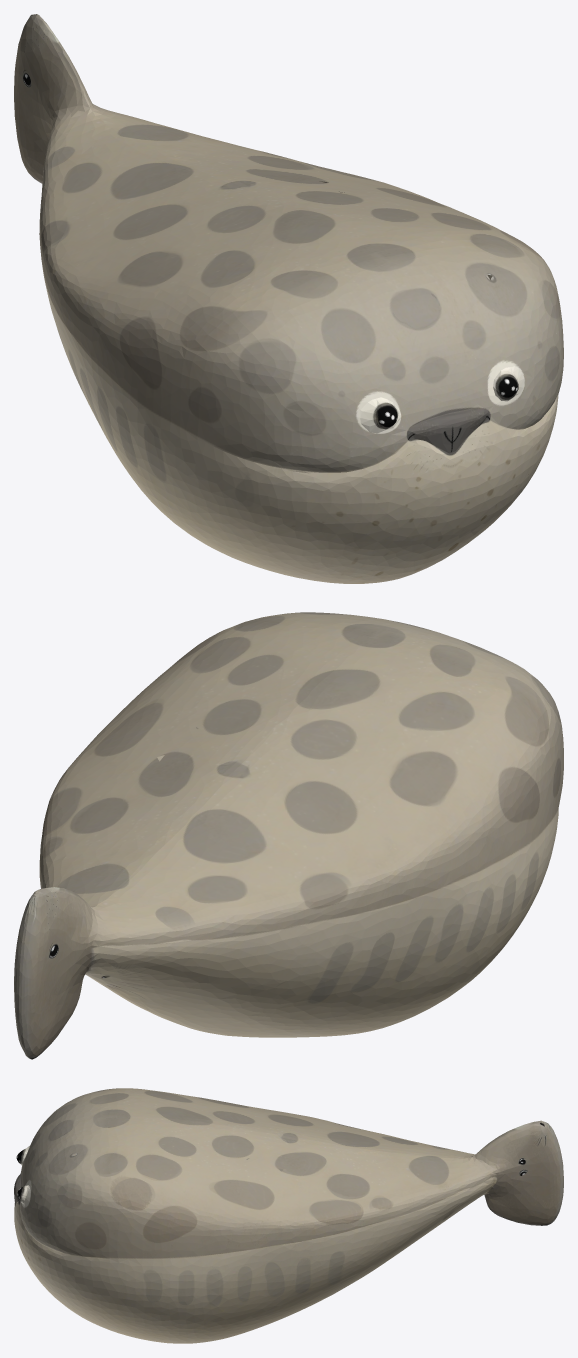
The model's file is Whimsical_Whale_0515031853_texture.fbx.
3 views of the same model, one above another, from view 1: azimuth 30°, elevation 25°; view 2: azimuth 150°, elevation 25°; view 3: azimuth 270°, elevation 25° (orthographic). The views are drawn at different scales.
Parts seen in each view (by area): view 1: temp; view 2: temp; view 3: temp.
Boxes of the visible parts, x1,y1,x2,y2 form: temp: [14, 14, 563, 583]; temp: [14, 612, 563, 1059]; temp: [14, 1088, 563, 1343].
Size of the model in its own units: 103 by 85.89 by 199.
Materials: 1 (1 with a texture image).
